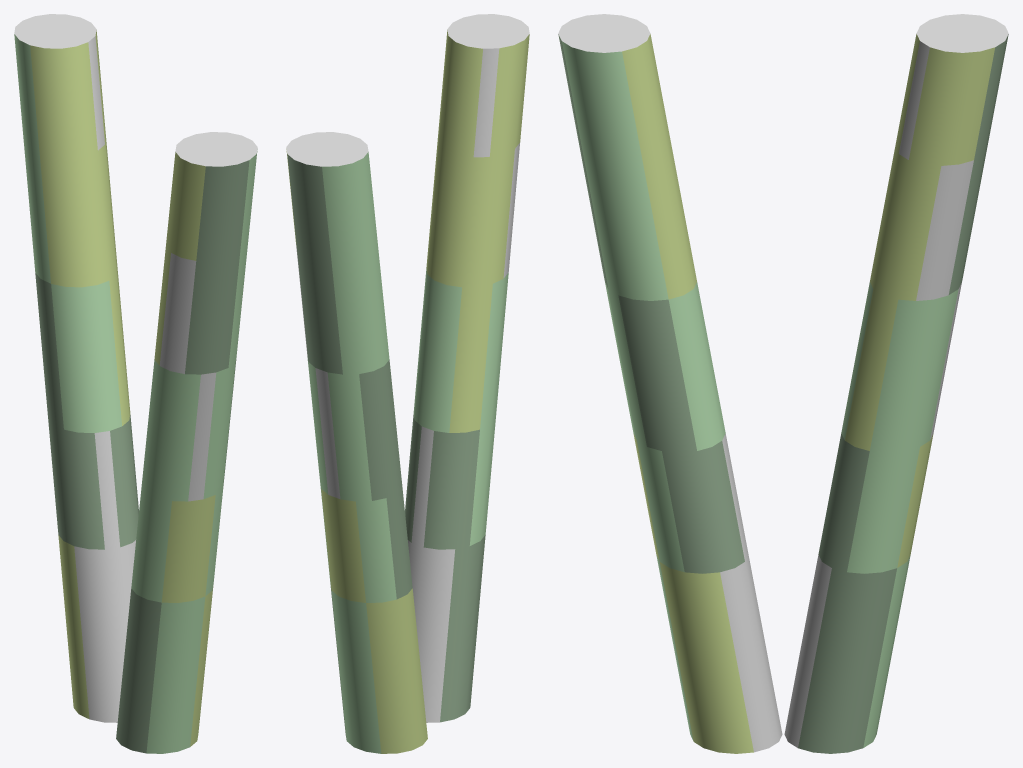
Rendered from AirportPillarDual.fbx.
3 renders of one model, left to right at view 1: azimuth 30°, elevation 25°; view 2: azimuth 150°, elevation 25°; view 3: azimuth 270°, elevation 25°, orthographic. The views are drawn at different scales.
Visible parts, largest first — view 1: DualPillar; view 2: DualPillar; view 3: DualPillar.
Part boxes in pixels (x1,y1,x2,y2): DualPillar: (14, 14, 257, 753); DualPillar: (286, 14, 529, 753); DualPillar: (558, 14, 1008, 753).
Size of the model in its own units: 4.54 by 38.03 by 22.15.
